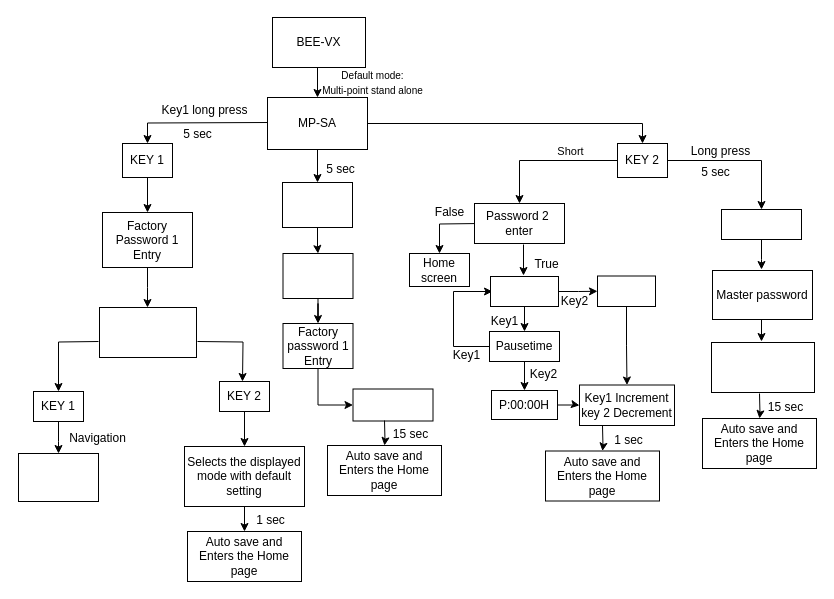
This 834x599 diagram has some shape labels left out. The shapes that lost their labels are listed below. From the top down, each one's centre as x and y in pixels, then its label:
At (317,205): "key1+key2".
At (761,224): "Password 2 reset".
At (317,275): "Factory password reset".
At (524,291): "Cycle".
At (626,290): "Cycle:00".
At (147,332): "Current mode eg:MP-SA".
At (762,367): "Password 2 setting".
At (392,404): "New Factory password".
At (58,477): "Different modes".
